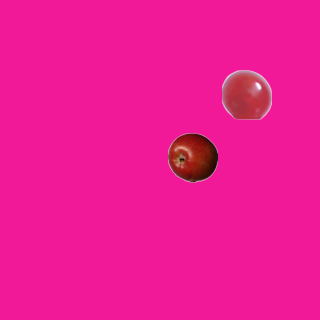Apple Braeburn: (167, 132, 217, 182)
Redcurrant: (221, 69, 271, 119)
